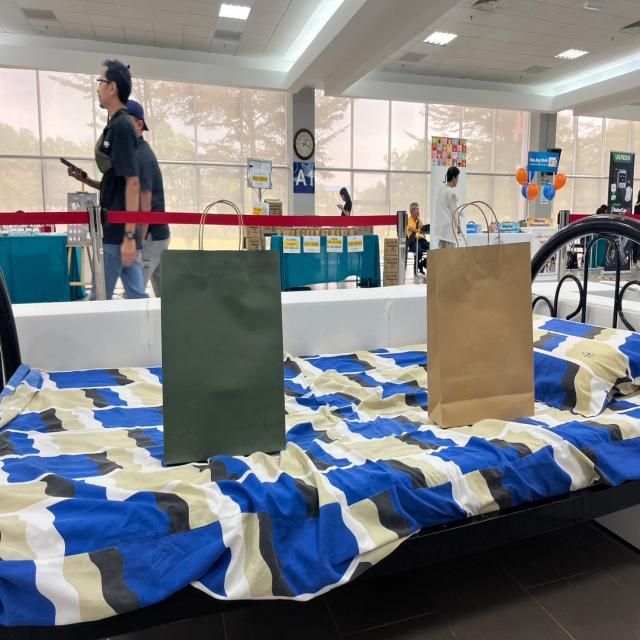bag: (154, 195, 290, 448), (436, 174, 536, 411)
